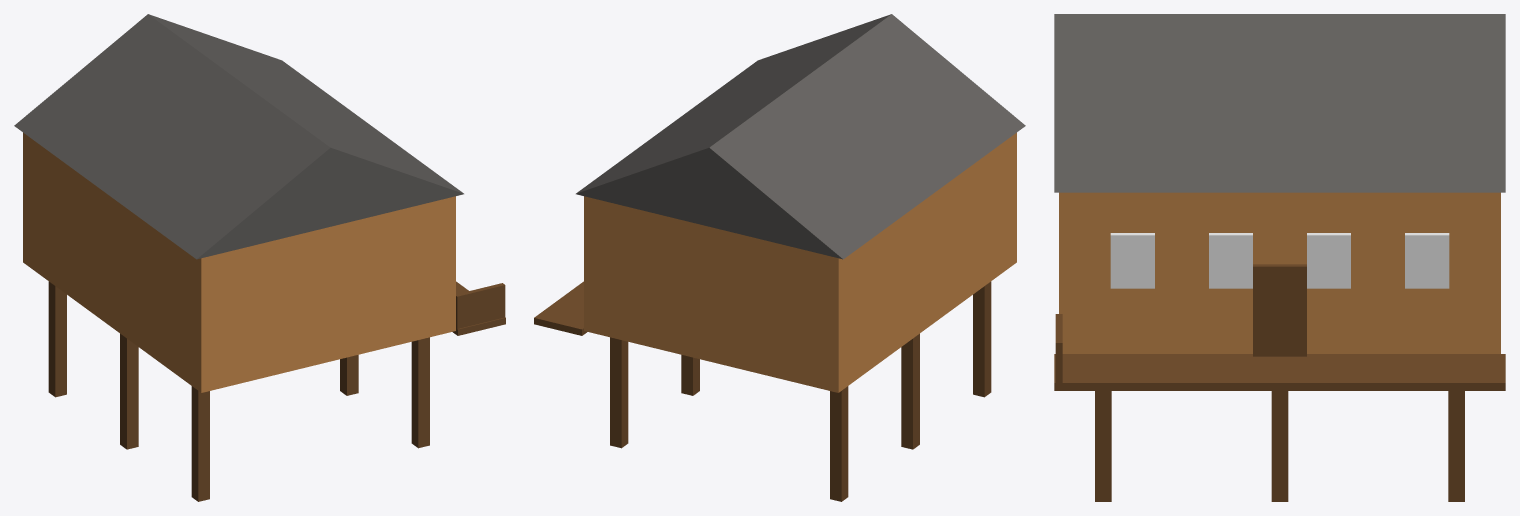
File: palafito.obj
The picture shows the model from 3 angles, left to right: view 1: azimuth 30°, elevation 25°; view 2: azimuth 150°, elevation 25°; view 3: azimuth 270°, elevation 25°; orthographic projection. The views are drawn at different scales.
Visible parts, largest first — view 1: palafito; view 2: palafito; view 3: palafito.
Part boxes in pixels (x1,y1,x2,y2): palafito: [14, 14, 505, 501]; palafito: [534, 14, 1025, 501]; palafito: [1054, 14, 1505, 501].
Bounding box in the file's own units: 9 × 9.4 × 9.2.
